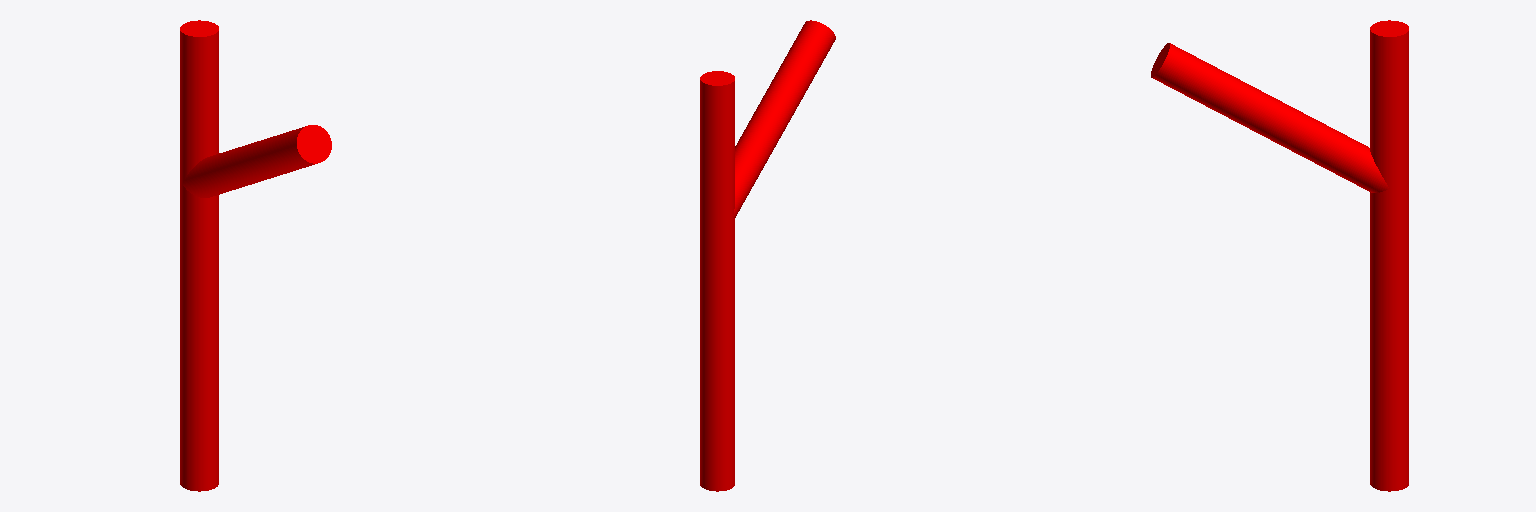
robot.urdf — tree.urdf:
<?xml version="1.0" ?>
<robot name="tree.urdf">
  <link name="baseLink">
    <inertial>
      <origin rpy="0 0 0" xyz="0 0 0"/>
       <mass value=".1"/>
       <inertia ixx="1" ixy="0" ixz="0" iyy="1" iyz="0" izz="1"/>
    </inertial>
    <contact>
      <lateral_friction value="1.0"/>
      <inertia_scaling value="3.0"/>
    </contact>
    <visual>
      <origin rpy="0 0 0" xyz="0 0 0"/>
      <geometry>
        <mesh filename="14.stl" scale="1 1 1" />
      </geometry>
      <material name="red">
        <color rgba="1 0 0 1"/>
      </material>
    </visual>
    <collision>
      <origin rpy="0 0 0" xyz="0 0 0"/>
      <geometry>
        <mesh filename="14_convex.obj" scale="1 1 1" />
      </geometry>
    </collision>
  </link>
</robot>

--- Render facts (derived) ---
Views: 3 orthographic renders of the robot side by side, from view 1: azimuth 30°, elevation 25°; view 2: azimuth 150°, elevation 25°; view 3: azimuth 270°, elevation 25°.
Robot: tree.urdf — 1 links, 0 joints (none); root link baseLink; default pose: every joint at zero.
Links seen in each view (by area): view 1: baseLink; view 2: baseLink; view 3: baseLink.
Link boxes in pixels (bbox=[...]): baseLink: bbox=[180, 20, 331, 491]; baseLink: bbox=[700, 20, 835, 491]; baseLink: bbox=[1151, 20, 1408, 491].
Size in the robot's own frame: 0.0196 by 0.129 by 0.25 metres.
Meshes: 1 distinct files referenced, 1 mesh visuals loaded (1 binary STL).